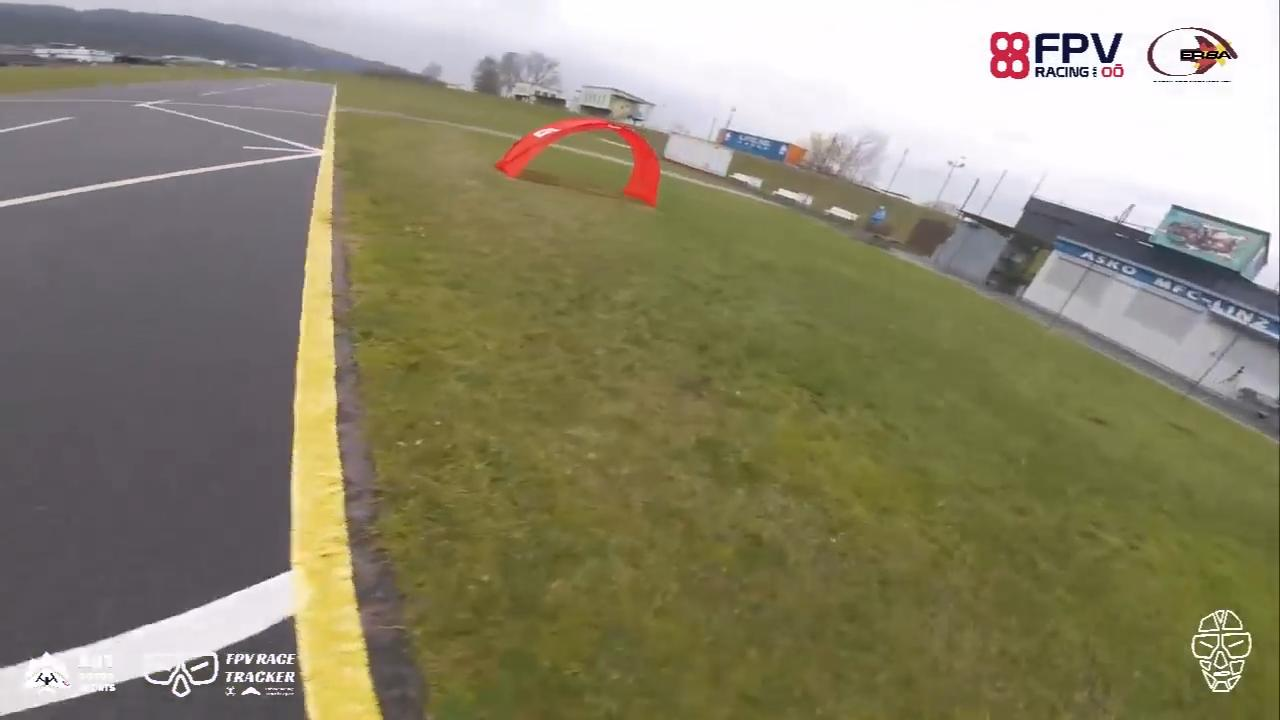gate: (489, 114, 666, 206)
